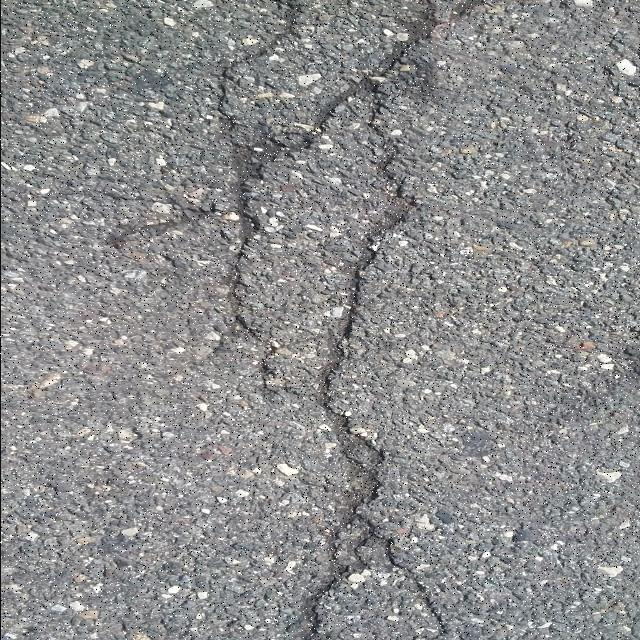Crack: (88, 0, 523, 640)
